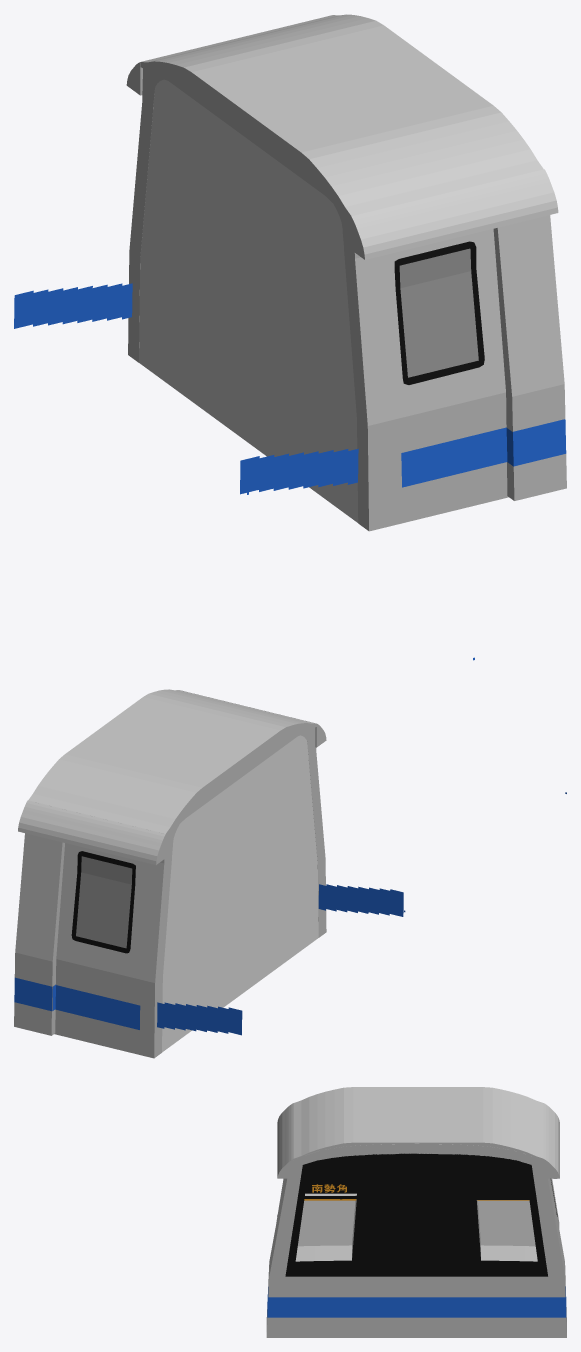
File: Head.fbx
3 renders of one model, top to bottom at view 1: azimuth 30°, elevation 25°; view 2: azimuth 150°, elevation 25°; view 3: azimuth 270°, elevation 25°, orthographic. The views are drawn at different scales.
Parts seen in each view (by area): view 1: 立方體.011, 立方體.010, 立方體.004, Cube.007, 立方體.008, Cube.052, Cube.025, Cube.068, 立方體.000, Cube.086, Cube.079, Cube.057 (+1 smaller); view 2: 立方體.011, 立方體.010, 立方體.000, Cube.007, 立方體.009, Cube.061, Cube.087, Cube.023, 立方體.004, Cube.079, Cube.086, Cube.063 (+1 smaller); view 3: Cube.032, 立方體.010, Cube.008, Cube.007, Cube.009, 立方體.011, Cube.047, 立方體.009, 立方體.008, Cube.045.
Boxes of the visible parts, box(x1,y1,x2,y2) form: 立方體.011: box(139, 79, 358, 522); 立方體.010: box(140, 14, 543, 220); 立方體.004: box(333, 204, 508, 531); Cube.007: box(493, 215, 564, 500); 立方體.008: box(351, 169, 558, 259); Cube.052: box(399, 248, 478, 377); Cube.025: box(512, 384, 566, 500); Cube.068: box(401, 427, 507, 487); 立方體.000: box(128, 68, 166, 362); Cube.086: box(259, 451, 358, 489); Cube.079: box(33, 285, 132, 324); Cube.057: box(394, 241, 484, 384); 立方體.011: box(162, 735, 318, 1052); 立方體.010: box(28, 689, 316, 836); 立方體.000: box(52, 824, 179, 1058); Cube.007: box(15, 833, 64, 1035); 立方體.009: box(18, 800, 165, 864); Cube.061: box(76, 856, 132, 948); Cube.087: box(55, 985, 140, 1029); Cube.023: box(14, 952, 52, 1035); 立方體.004: box(299, 728, 326, 937); Cube.079: box(157, 1004, 228, 1031); Cube.086: box(318, 886, 389, 913); Cube.063: box(71, 851, 135, 953); Cube.032: box(285, 1153, 547, 1276); 立方體.010: box(293, 1087, 543, 1160); Cube.008: box(266, 1277, 566, 1337); Cube.007: box(268, 1143, 565, 1279); Cube.009: box(267, 1297, 566, 1317); 立方體.011: box(298, 1200, 535, 1246); Cube.047: box(295, 1193, 537, 1261); 立方體.009: box(543, 1103, 559, 1178); 立方體.008: box(277, 1103, 293, 1178); Cube.045: box(305, 1184, 356, 1193).
Bounding box in the file's own units: 543 × 555 × 1417.
